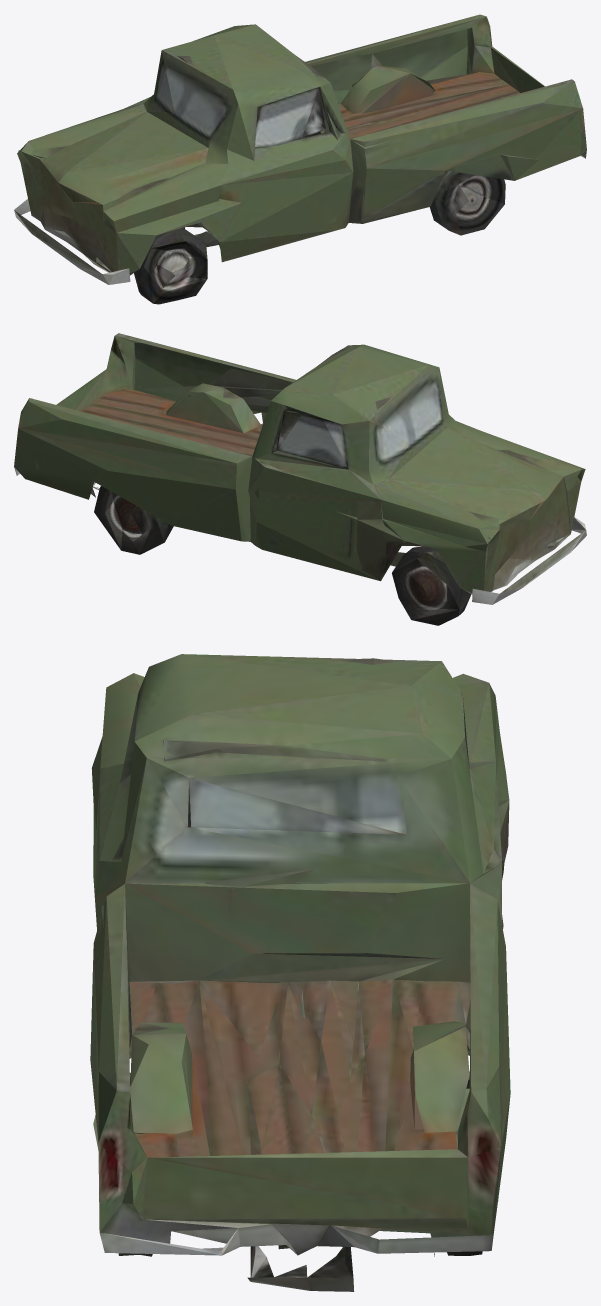
The model's file is pickup.glb.
3 renders of one model, top to bottom at view 1: azimuth 30°, elevation 25°; view 2: azimuth 150°, elevation 25°; view 3: azimuth 270°, elevation 25°, orthographic. The views are drawn at different scales.
Size of the model in its own units: 1.9 by 0.716 by 0.713.
1 material, 1 textured.
